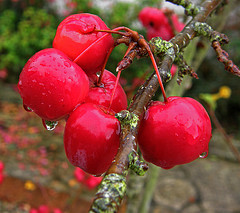apple: (132, 93, 215, 173), (13, 44, 93, 125), (61, 102, 142, 179)
